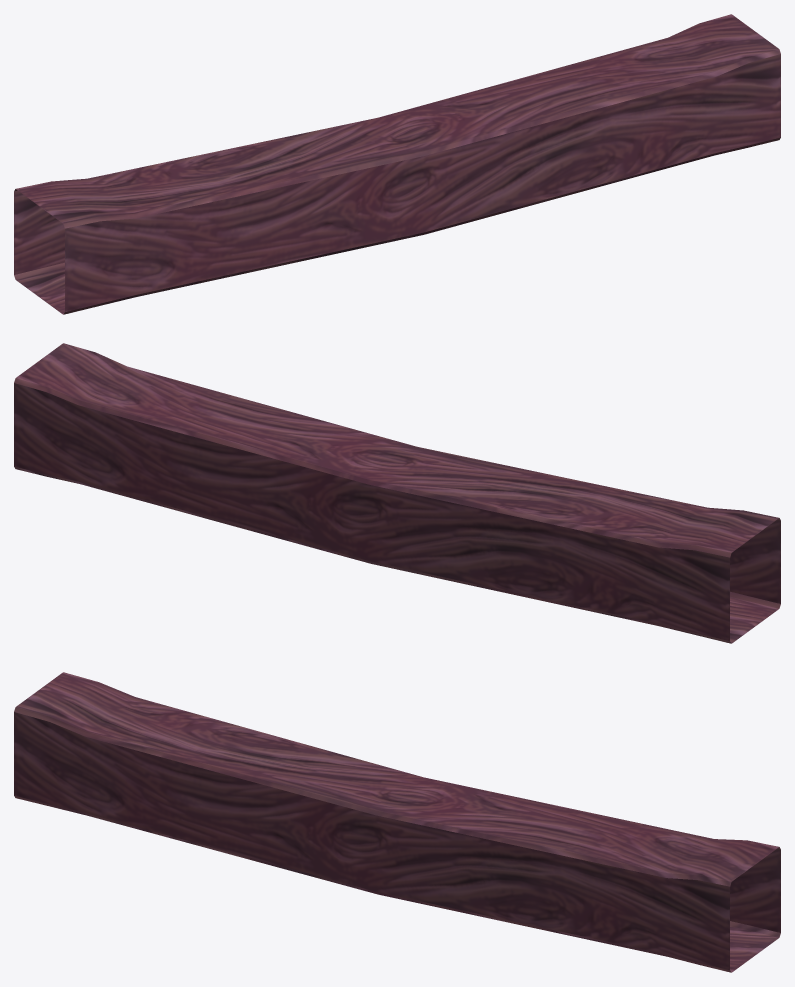
Rendered from MOD_WallTrimThick_Block.fbx.
3 views of the same model, one above another, from view 1: azimuth 30°, elevation 25°; view 2: azimuth 150°, elevation 25°; view 3: azimuth 330°, elevation 25° (orthographic).
Visible parts, largest first — view 1: MOD_WallTrimThick; view 2: MOD_WallTrimThick; view 3: MOD_WallTrimThick.
Part boxes in pixels (<box>): MOD_WallTrimThick: <box>14,14,780,314</box>; MOD_WallTrimThick: <box>14,343,780,643</box>; MOD_WallTrimThick: <box>14,672,780,972</box>.
Size of the model in its own units: 400 by 53.32 by 49.3.
Materials: 1 (1 with a texture image).
